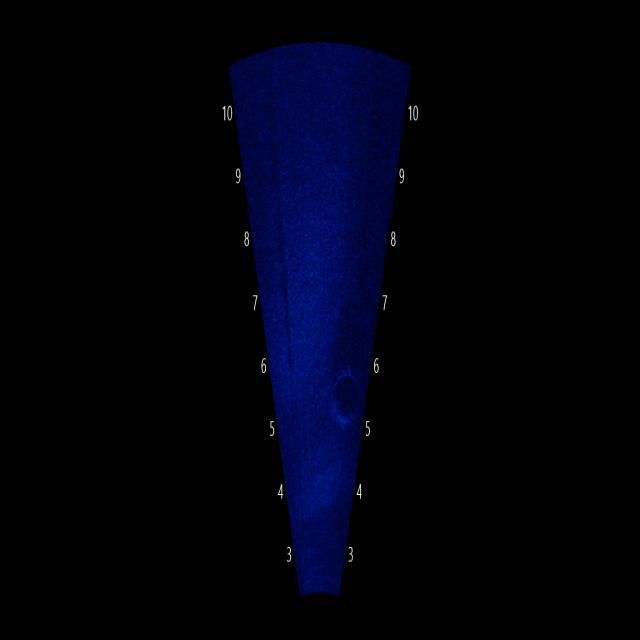circle: (327, 343, 364, 438)
